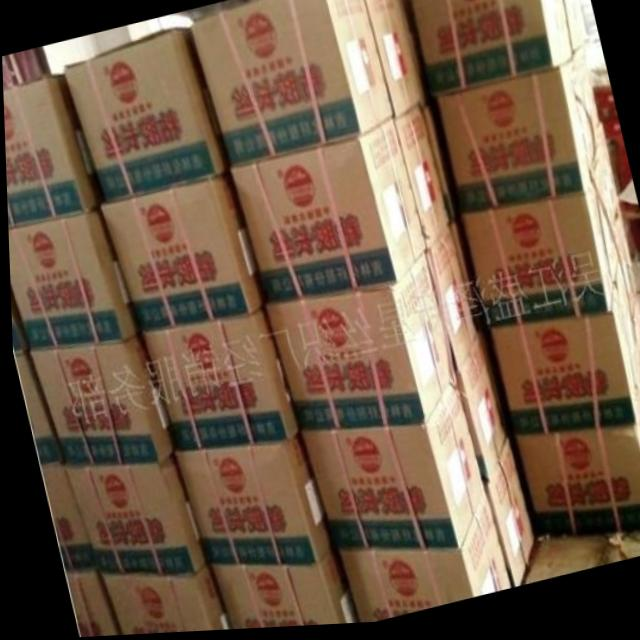box: (229, 122, 424, 308), (191, 0, 393, 170), (262, 258, 451, 434), (300, 387, 483, 556), (63, 29, 227, 203), (100, 172, 262, 333), (435, 59, 597, 217), (461, 177, 617, 330), (489, 283, 634, 440), (335, 498, 508, 626), (139, 312, 296, 453), (513, 376, 640, 543), (171, 440, 329, 567), (28, 338, 172, 465), (7, 212, 137, 349), (63, 455, 204, 574), (409, 0, 571, 99), (3, 73, 100, 227), (205, 553, 352, 632), (98, 568, 225, 636), (392, 109, 450, 256), (423, 234, 476, 381), (453, 346, 505, 491), (482, 446, 531, 591), (365, 0, 424, 120), (37, 464, 94, 573), (11, 355, 61, 466), (61, 571, 114, 638), (9, 309, 27, 354)
